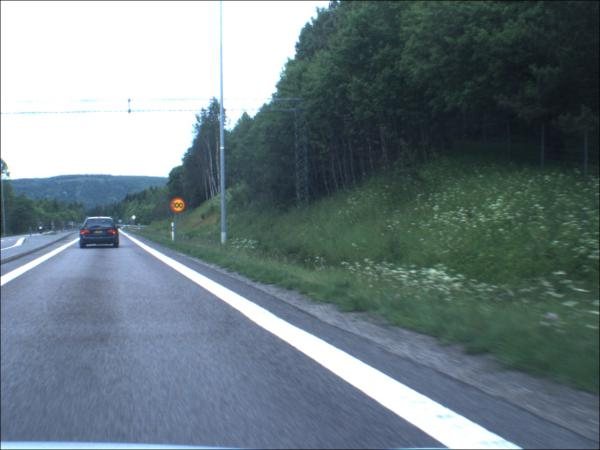100_SIGN: (173, 199, 188, 214)
PRIORITY_ROAD: (133, 216, 139, 223)
